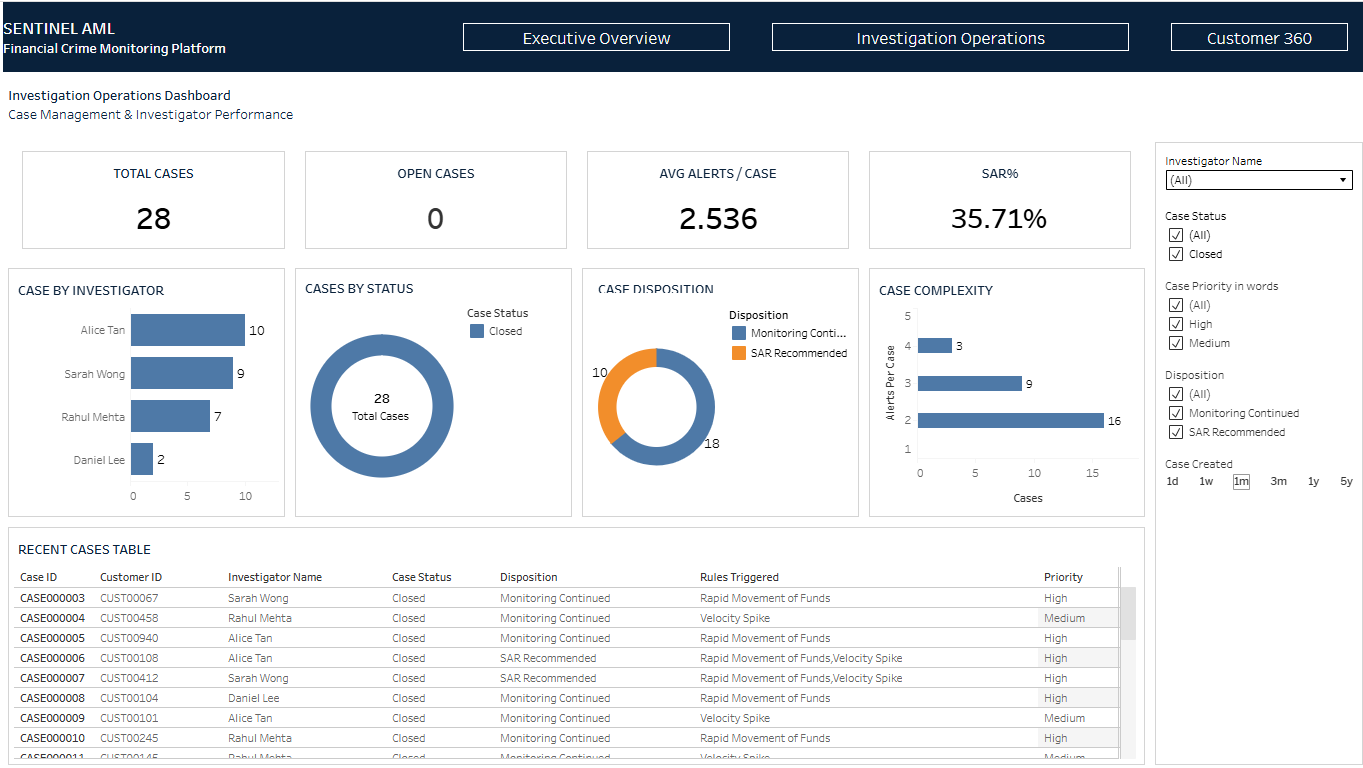

The dashboard page shown, as its layout file describes it:
{"tool":"tableau","page":{"name":"Dashboard 2","canvas":[1366,768],"ordinal":1},"visuals":[{"type":"text","box":[0,0,439,69.8]},{"type":"dashboard-object","box":[439,0,309,69.8]},{"type":"dashboard-object","box":[748,0,399,69.8]},{"type":"dashboard-object","box":[1147,0,219,69.8]},{"type":"text","box":[0,69.8,1366,65.2]},{"type":"worksheet","title":"Total Cases","mark":"Automatic","box":[9,144,283,108]},{"type":"worksheet","title":"Open Cases","mark":"Automatic","box":[292,144,282,108]},{"type":"worksheet","title":"Avg Alerts/Case","mark":"Automatic","box":[574,144,282,108]},{"type":"worksheet","title":"SAR%","mark":"Automatic","box":[856,144,282,108]},{"type":"filter","title":"Avg Alerts/Case","param":"[federated.0al7et613q8bnx10lcgn71p491zi].[none:investigator_name:nk]","box":[1158,146,197,68]},{"type":"filter","title":"Avg Alerts/Case","param":"[federated.0al7et613q8bnx10lcgn71p491zi].[none:case_status:nk]","box":[1158,214,197,92]},{"type":"worksheet","title":"Cases By Investigator","mark":"Automatic","rows":["investigator_name"],"cols":["case_id"],"box":[0,261,287,259]},{"type":"worksheet","title":"Case Complexity","mark":"Bar","rows":["alert_count"],"cols":["case_id"],"box":[861,261,286,259]},{"type":"text","box":[298,272,265,36]},{"type":"text","box":[585,272,265,38]},{"type":"filter","title":"Recent Cases Table","param":"[federated.0al7et613q8bnx10lcgn71p491zi].[none:Calculation_1194861301361860608:n","box":[1158,306,197,119]},{"type":"worksheet","title":"Cases By status","mark":"Pie","cols":["Calculation_826410557615939587","Calculation_826410557615939587"],"box":[298,308,162,201]},{"type":"legend","title":"Cases By status","param":"[federated.0al7et613q8bnx10lcgn71p491zi].[none:case_status:nk]","box":[460,308,103,201]},{"type":"worksheet","title":"Cases By Disposition","mark":"Pie","cols":["Calculation_826410557615939587","Calculation_826410557615939587"],"box":[585,310,137,199]},{"type":"legend","title":"Cases By Disposition","param":"[federated.0al7et613q8bnx10lcgn71p491zi].[none:disposition:nk]","box":[722,310,128,199]},{"type":"filter","title":"Recent Cases Table","param":"[federated.0al7et613q8bnx10lcgn71p491zi].[none:disposition:nk]","box":[1158,425,197,119]},{"type":"worksheet","title":"Recent Cases Table","mark":"Text","rows":["Calculation_604326801188089860","Calculation_586875351928315904","investigator_name","case_status","disposition","rules_triggered","Calculation_604326801185751042"],"box":[0,520.5,1147,247.5]},{"type":"filter","title":"Recent Cases Table","param":"[federated.0al7et613q8bnx10lcgn71p491zi].[none:case_created:qk]","box":[1158,544,197,57]}]}

Visuals, with their boxes in screenshot pixels (x1, y1, x2, y2), scaled from the page's 1366x768 canvas onto the 1363x768 screenshot:
text: <bbox>0, 0, 438, 70</bbox>
dashboard-object: <bbox>438, 0, 746, 70</bbox>
dashboard-object: <bbox>746, 0, 1144, 70</bbox>
dashboard-object: <bbox>1144, 0, 1362, 70</bbox>
text: <bbox>0, 70, 1362, 135</bbox>
"Total Cases" worksheet: <bbox>9, 144, 291, 252</bbox>
"Open Cases" worksheet: <bbox>291, 144, 573, 252</bbox>
"Avg Alerts/Case" worksheet: <bbox>573, 144, 854, 252</bbox>
"SAR%" worksheet: <bbox>854, 144, 1136, 252</bbox>
"Avg Alerts/Case" filter: <bbox>1155, 146, 1352, 214</bbox>
"Avg Alerts/Case" filter: <bbox>1155, 214, 1352, 306</bbox>
"Cases By Investigator" worksheet: <bbox>0, 261, 286, 520</bbox>
"Case Complexity" worksheet (Bar marks): <bbox>859, 261, 1144, 520</bbox>
text: <bbox>297, 272, 562, 308</bbox>
text: <bbox>584, 272, 848, 310</bbox>
"Recent Cases Table" filter: <bbox>1155, 306, 1352, 425</bbox>
"Cases By status" worksheet (Pie marks): <bbox>297, 308, 459, 509</bbox>
"Cases By status" legend: <bbox>459, 308, 562, 509</bbox>
"Cases By Disposition" worksheet (Pie marks): <bbox>584, 310, 720, 509</bbox>
"Cases By Disposition" legend: <bbox>720, 310, 848, 509</bbox>
"Recent Cases Table" filter: <bbox>1155, 425, 1352, 544</bbox>
"Recent Cases Table" worksheet (Text marks): <bbox>0, 520, 1144, 767</bbox>
"Recent Cases Table" filter: <bbox>1155, 544, 1352, 601</bbox>
